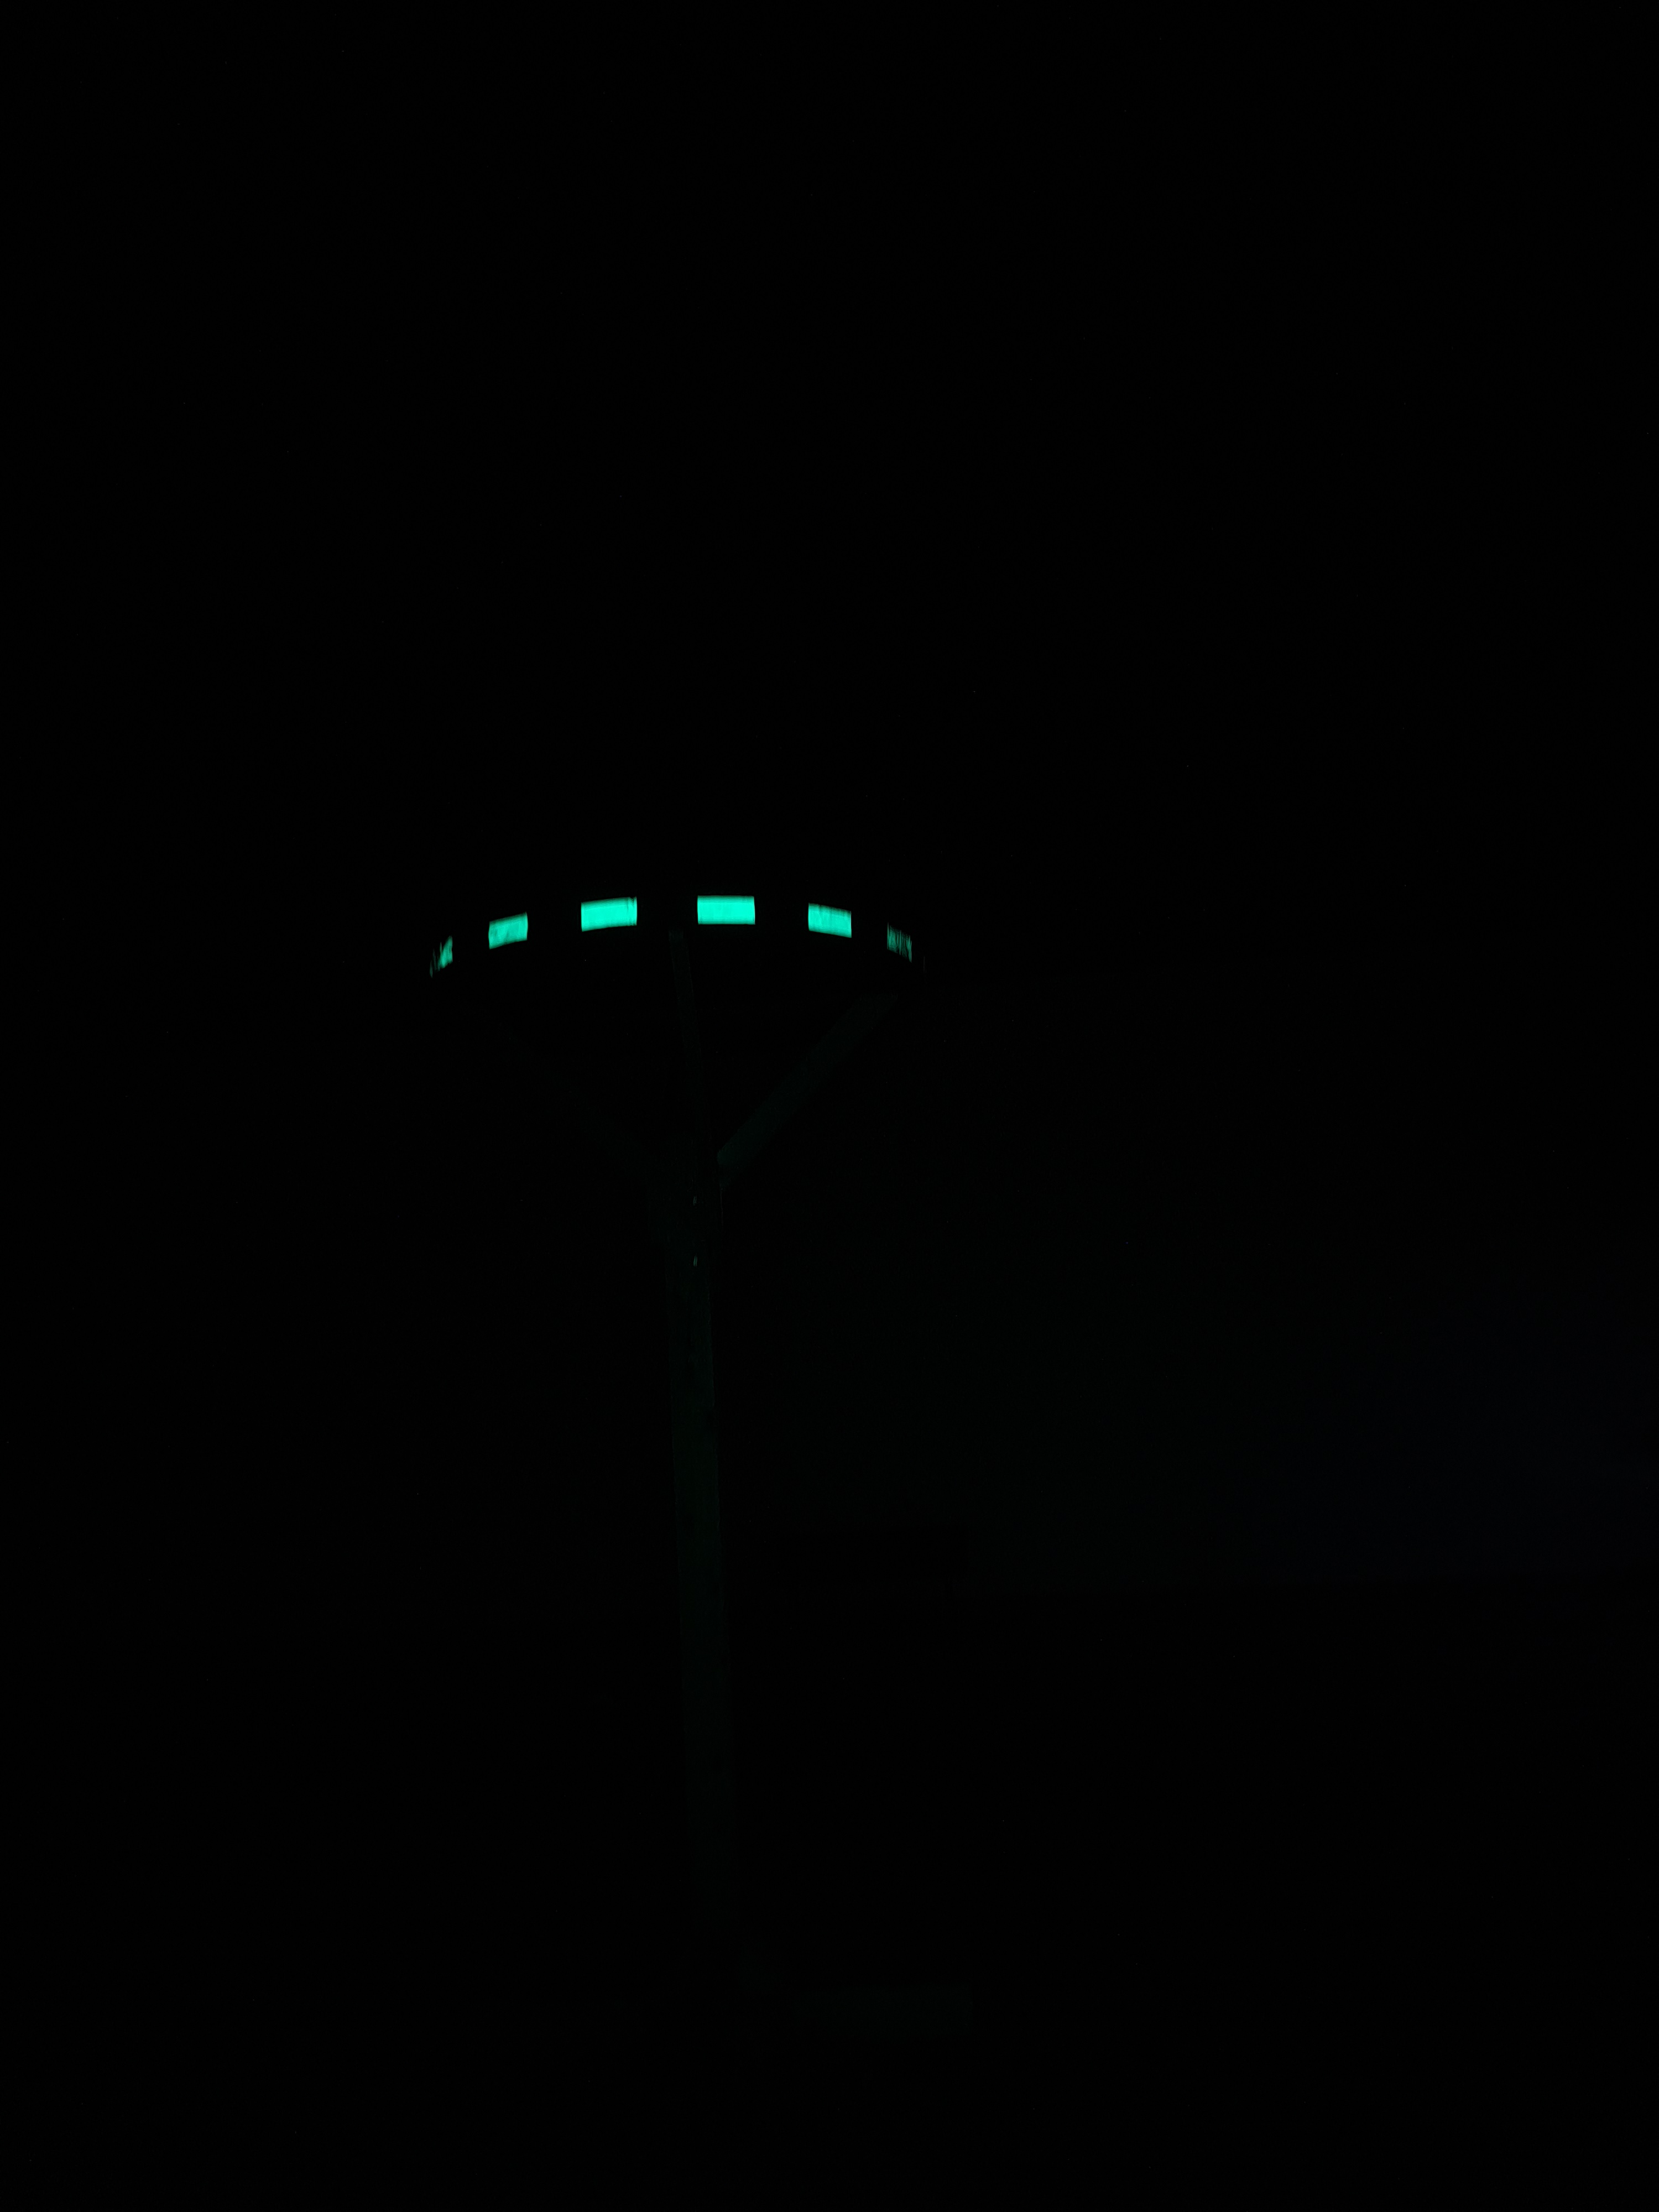hoop: (425, 892, 918, 974)
